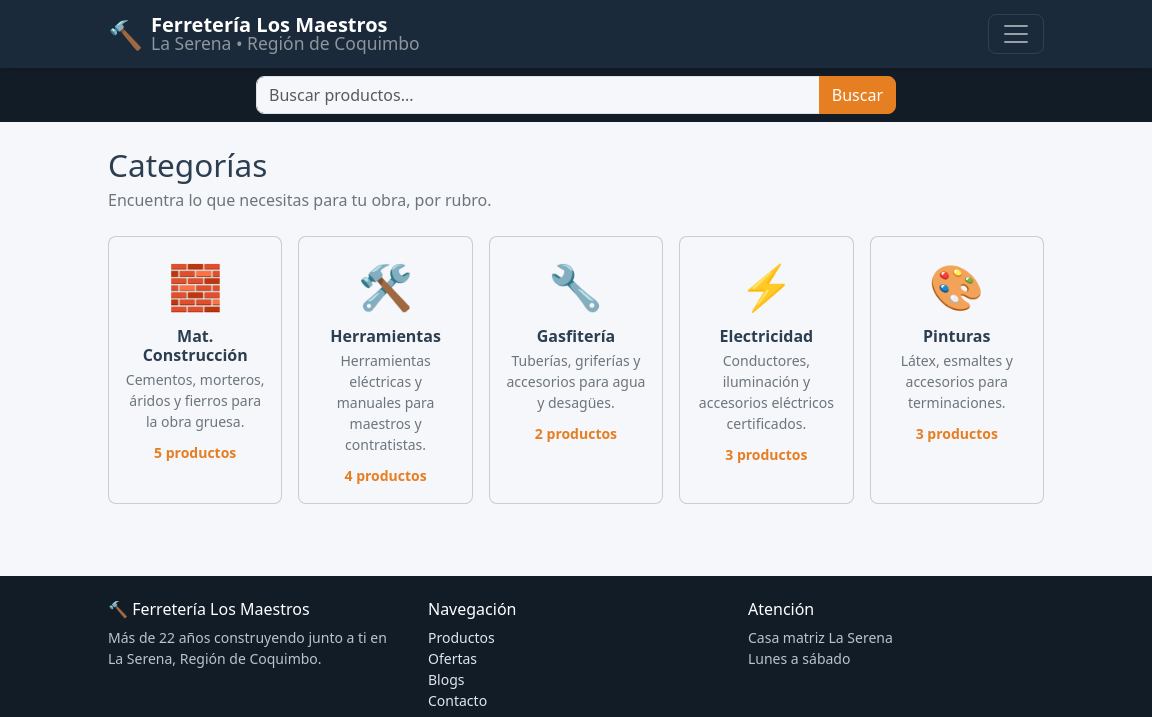
Test case: Portada y catálogo › /categorias lista las categorías y /categorias/:slug sus productos
The image size is (1152, 717).
Click the link "Pinturas" at x=957, y=370, box x1=870 y1=236 x2=1044 y2=504
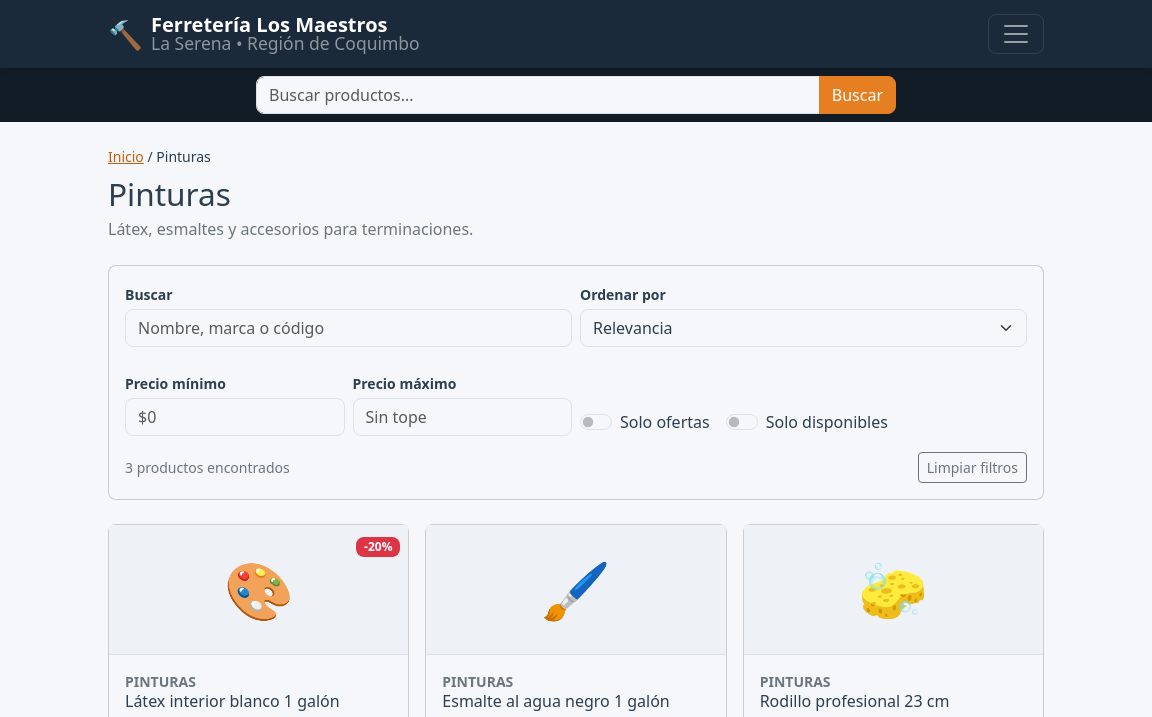
Now the heading "Pinturas" is shown, box x1=108 y1=172 x2=231 y2=215
